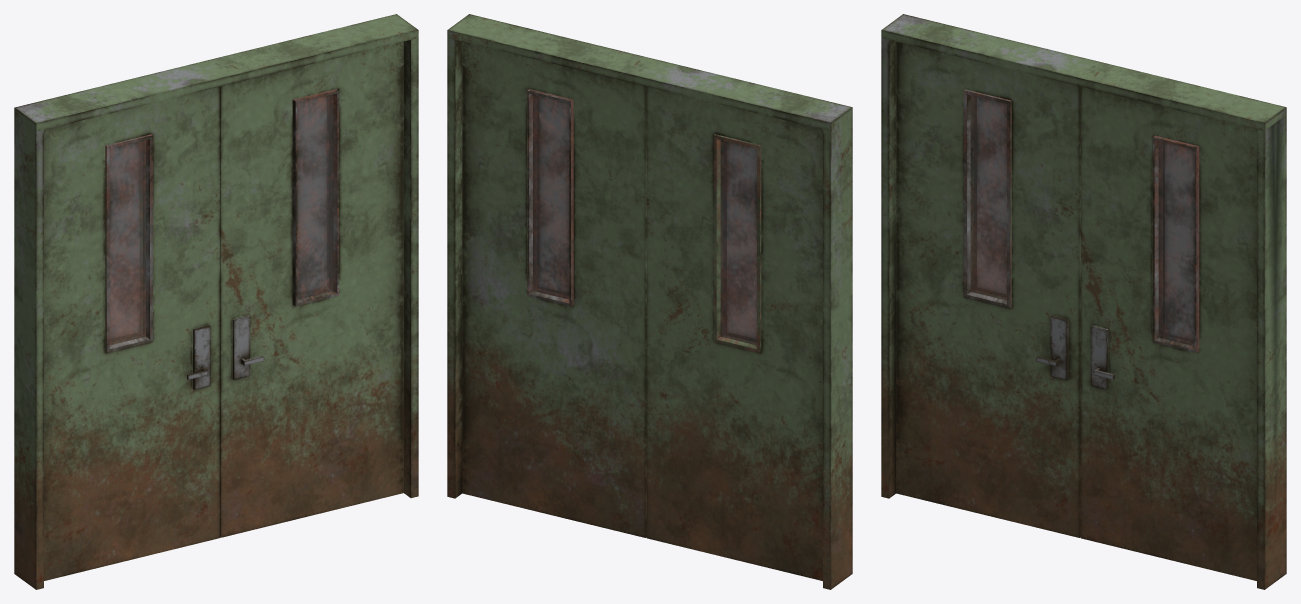
The model's file is worn_steel_door.glb.
The picture shows the model from 3 angles, left to right: view 1: azimuth 30°, elevation 25°; view 2: azimuth 150°, elevation 25°; view 3: azimuth 330°, elevation 25°; orthographic projection.
Parts seen in each view (by area): view 1: Door3; view 2: Door3; view 3: Door3.
Boxes of the visible parts, x1,y1,x2,y2 form: Door3: [14, 14, 418, 589]; Door3: [447, 14, 852, 589]; Door3: [881, 14, 1286, 589].
Size of the model in its own units: 1.72 by 2 by 0.1722.
1 material, 1 textured.
